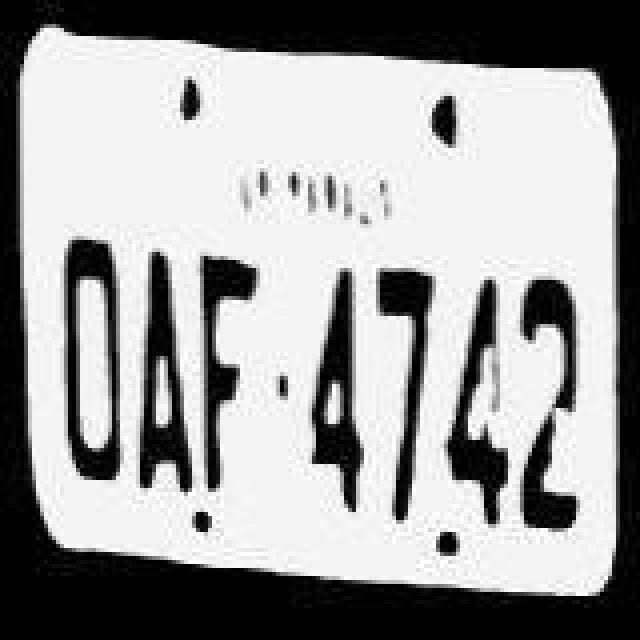2: (524, 246, 600, 538)
4: (300, 242, 376, 526), (444, 232, 512, 528)
7: (376, 238, 444, 530)
A: (130, 236, 194, 516)
F: (194, 222, 266, 506)
O: (38, 222, 126, 514)
